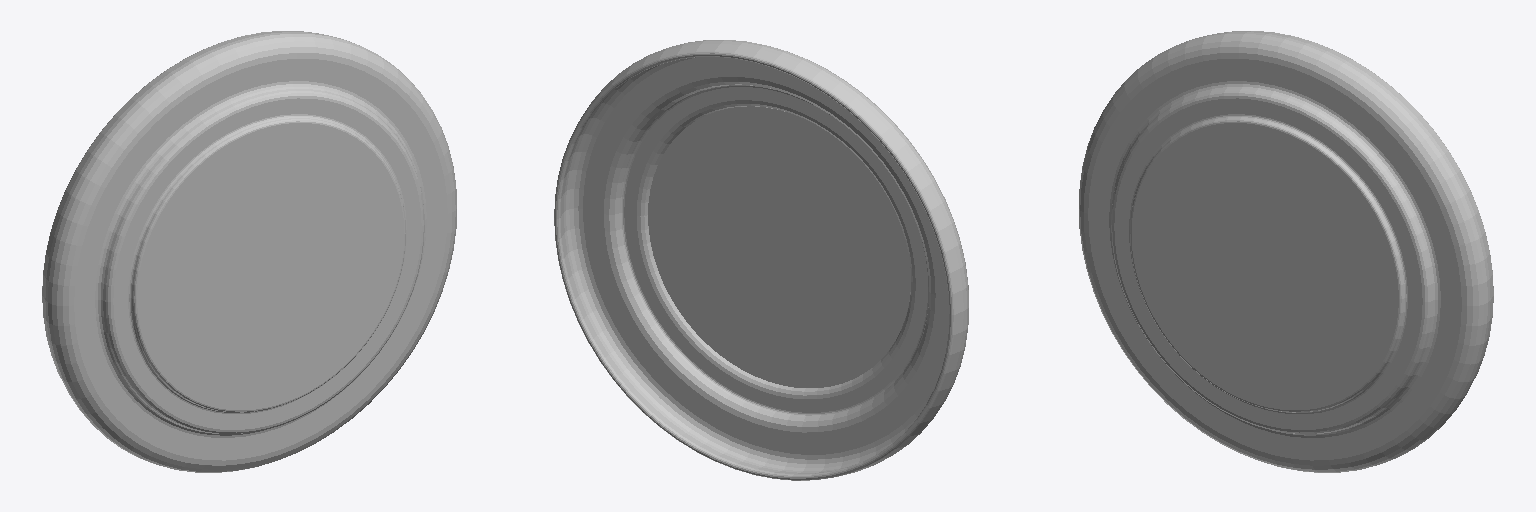
File: frisbee_up.obj
3 views of the same model, side by side, from view 1: azimuth 30°, elevation 25°; view 2: azimuth 150°, elevation 25°; view 3: azimuth 330°, elevation 25° (orthographic).
Parts seen in each view (by area): view 1: frisbee; view 2: frisbee; view 3: frisbee.
Part boxes in pixels (x1,y1,x2,y2): frisbee: (42, 31, 456, 472); frisbee: (554, 40, 968, 480); frisbee: (1079, 31, 1493, 472).
Bounding box in the file's own units: 0.5695 × 0.5695 × 0.0732.